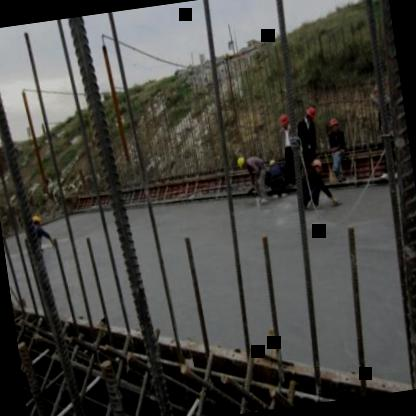helmet: (234, 152, 250, 172), (309, 155, 324, 176), (326, 114, 340, 136), (277, 111, 292, 130), (29, 212, 42, 233), (303, 104, 317, 123)
